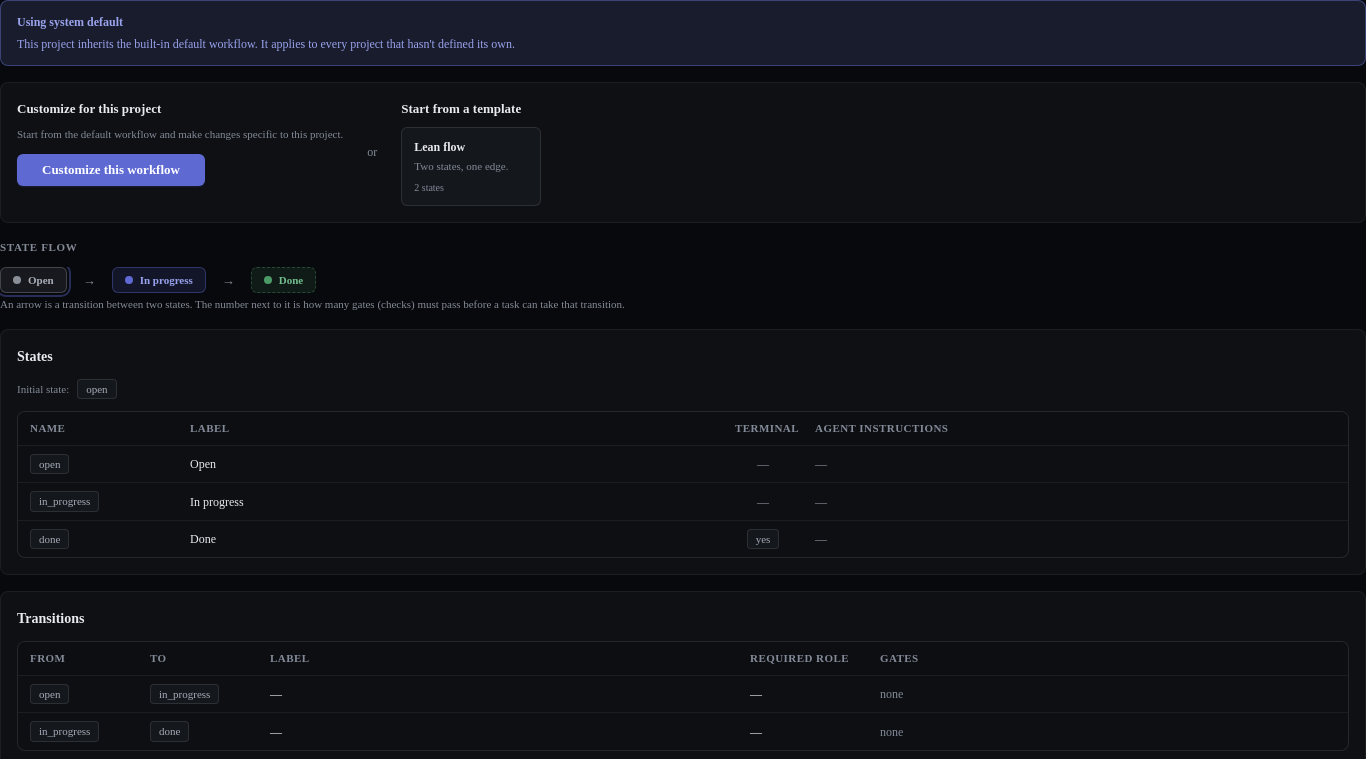
Test: workflow page: a response that is not an effective workflow › Customize with a valid body opens the editor
Click the button "Customize this workflow" at (111, 170), box [17,154,205,186]
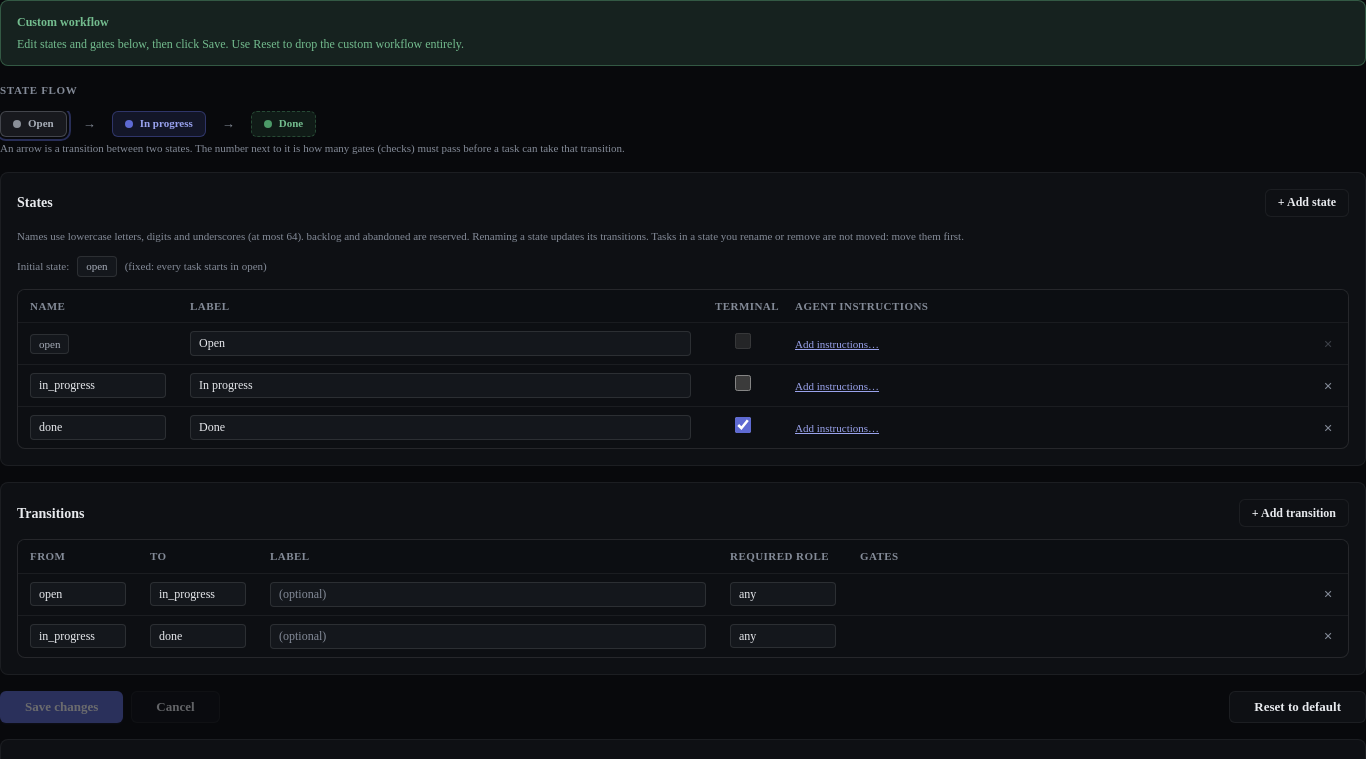
Check: the text "Custom workflow" is shown, box [17,15,109,29]
Check: the button "+ Add state" is shown, box [1265,189,1349,217]
